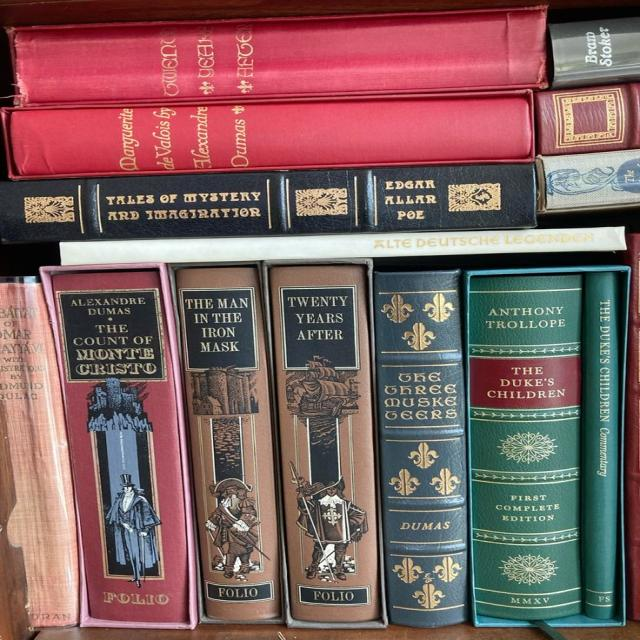book: (52, 270, 187, 623), (16, 12, 543, 102), (8, 99, 531, 177), (1, 167, 536, 241), (470, 274, 585, 617), (273, 265, 380, 623), (175, 267, 280, 619), (375, 270, 471, 627), (3, 276, 74, 629), (59, 225, 628, 264), (583, 273, 616, 618)
